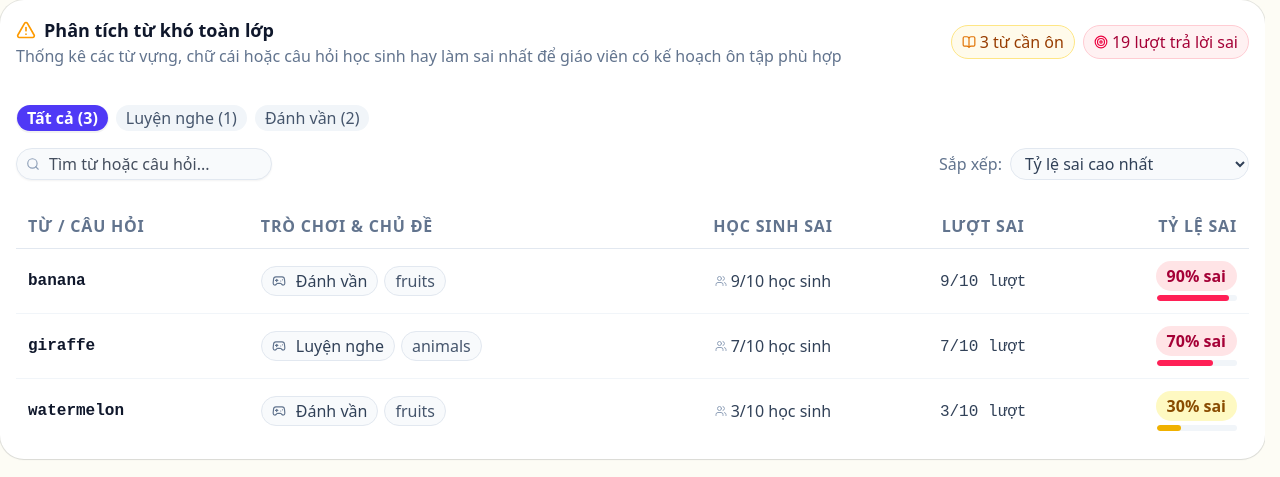
Test: DifficultWordsAnalysis Component › searches difficult words by text keyword
This screenshot has width=1280, height=477.
Type "gir" into the field with placeholder "Tìm từ hoặc câu hỏi..." at (144, 164), box left=16, top=148, right=272, bottom=180
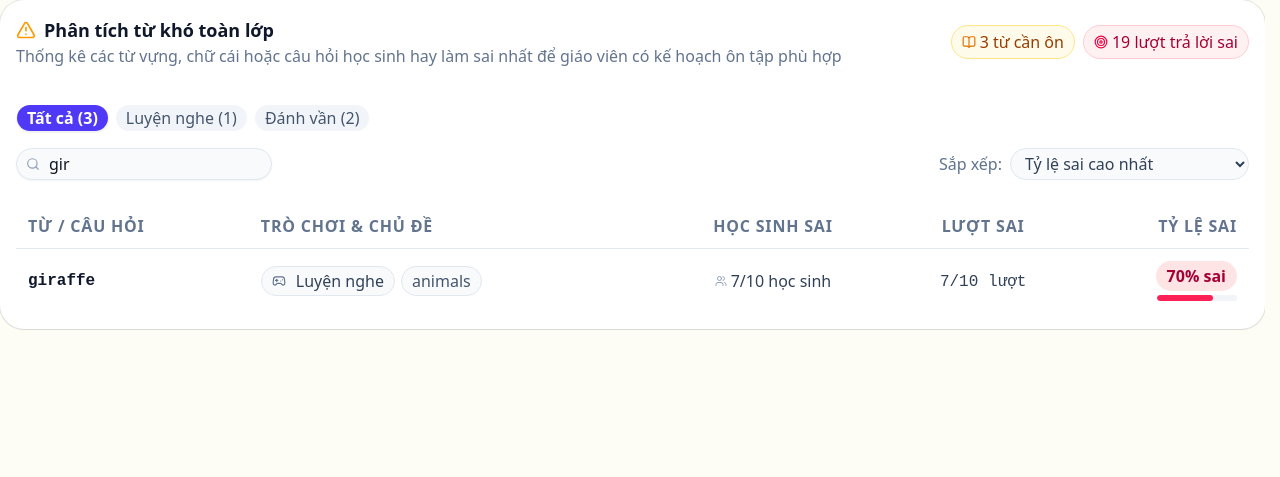
Expected: the text "giraffe" is shown, left=28, top=269, right=95, bottom=293
Expected: the text "banana" is gone
Expected: the text "watermelon" is gone
Note: Search by topic keyword
Replace the text in the field with placeholder "Tìm từ hoặc câu hỏi..." with "fruits" at (144, 164), box left=16, top=148, right=272, bottom=180
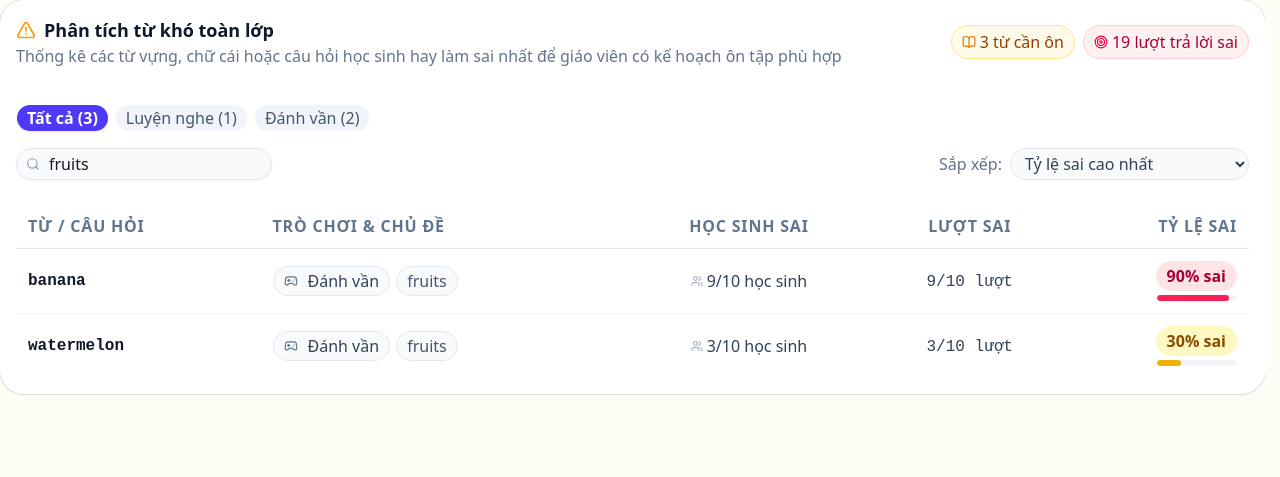
Expected: the text "giraffe" is gone
Expected: the text "banana" is shown, left=28, top=269, right=86, bottom=293
Expected: the text "watermelon" is shown, left=28, top=334, right=124, bottom=358
